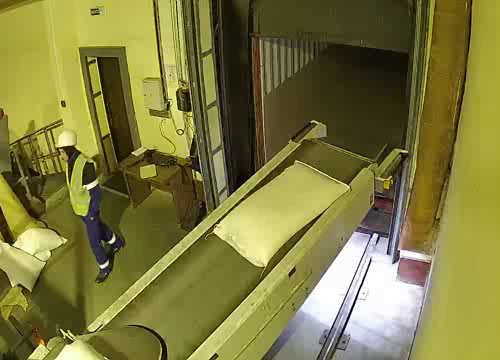bag: (202, 152, 367, 273), (50, 337, 118, 360)
